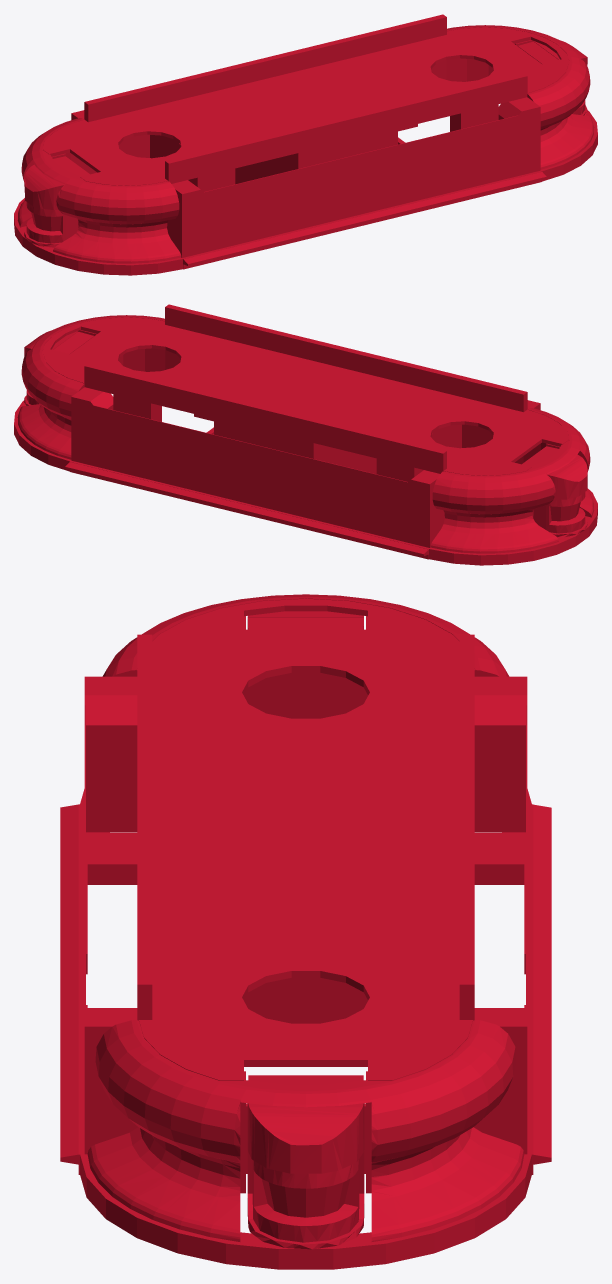
File: chassis_agvs.dae
3 renders of one model, top to bottom at view 1: azimuth 30°, elevation 25°; view 2: azimuth 150°, elevation 25°; view 3: azimuth 270°, elevation 25°, orthographic. The views are drawn at different scales.
Visible parts, largest first — view 1: Chassis_Agvs; view 2: Chassis_Agvs; view 3: Chassis_Agvs.
Boxes of the visible parts, bbox=[...] form: Chassis_Agvs: bbox=[14, 14, 597, 275]; Chassis_Agvs: bbox=[14, 304, 597, 565]; Chassis_Agvs: bbox=[60, 594, 551, 1269].
Size of the model in its own units: 1.7 by 0.6522 by 0.3.
